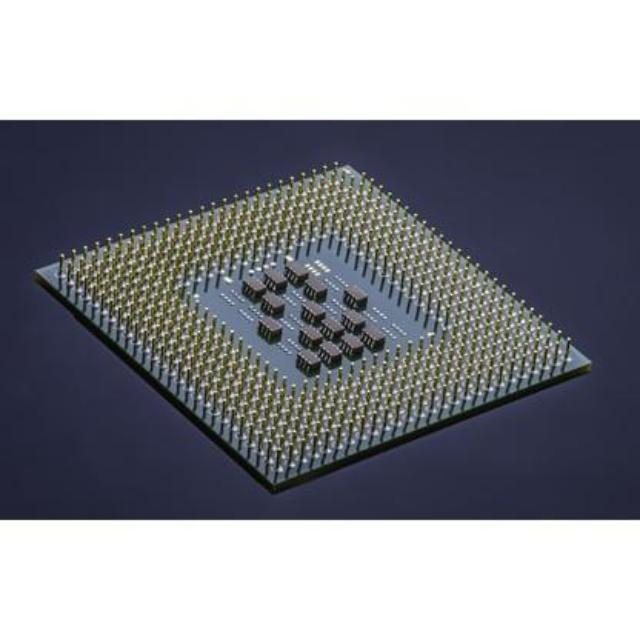CPU: (38, 156, 592, 490)
